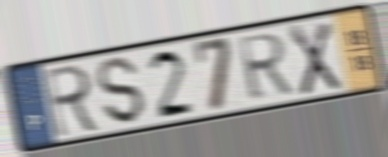2: (146, 48, 197, 119)
7: (191, 35, 237, 115)
R: (42, 61, 103, 141), (235, 30, 296, 105)
S: (95, 55, 148, 127)
X: (286, 19, 344, 99)
